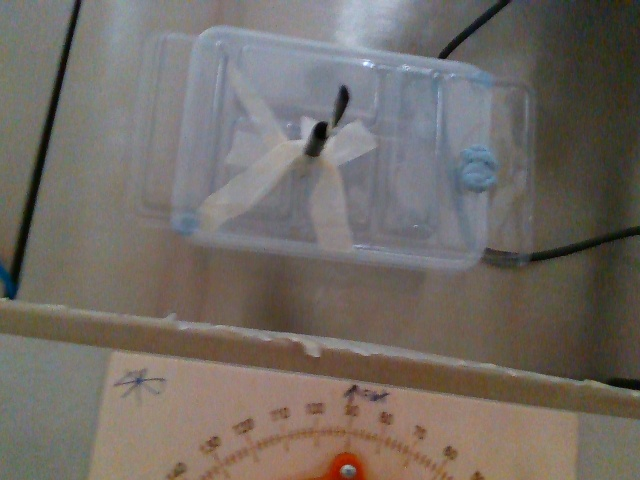test_strip: (326, 82, 348, 137)
